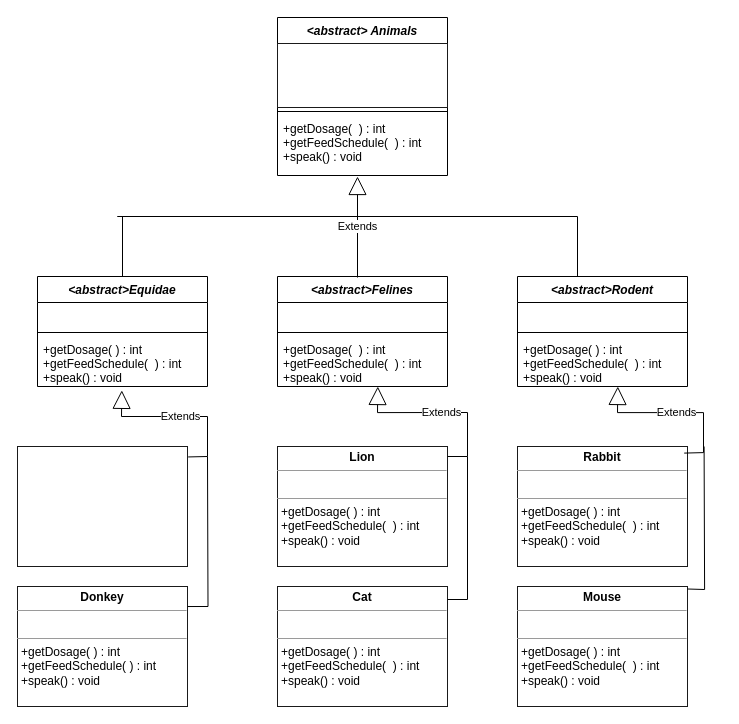
Some shapes in this 739 by 724 pixel diagram are drawn without their labels. The centre of each missing label's shape, as x and y in pixels:
"Horse +getDosage( ) : int +getFeedSchedule( ) : int +speak() : void" belongs at point (102, 506).
"—species : String —weight : int —age : int — food : String" belongs at point (362, 75).
